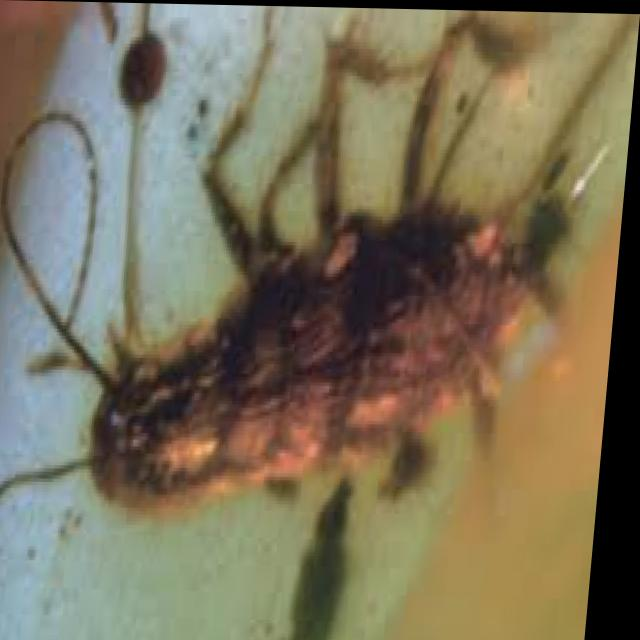Cockroach: (0, 111, 632, 627)
